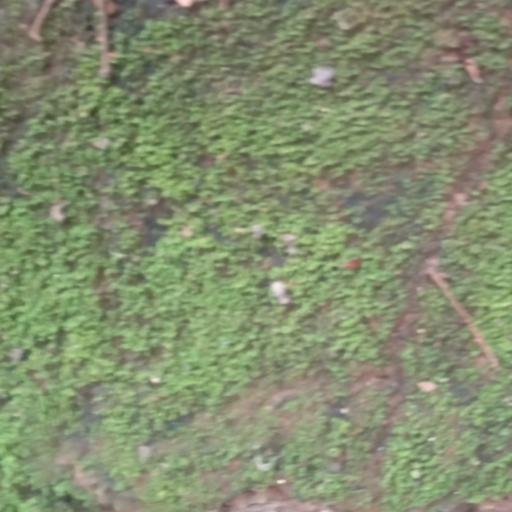algae: (0, 2, 512, 512)
